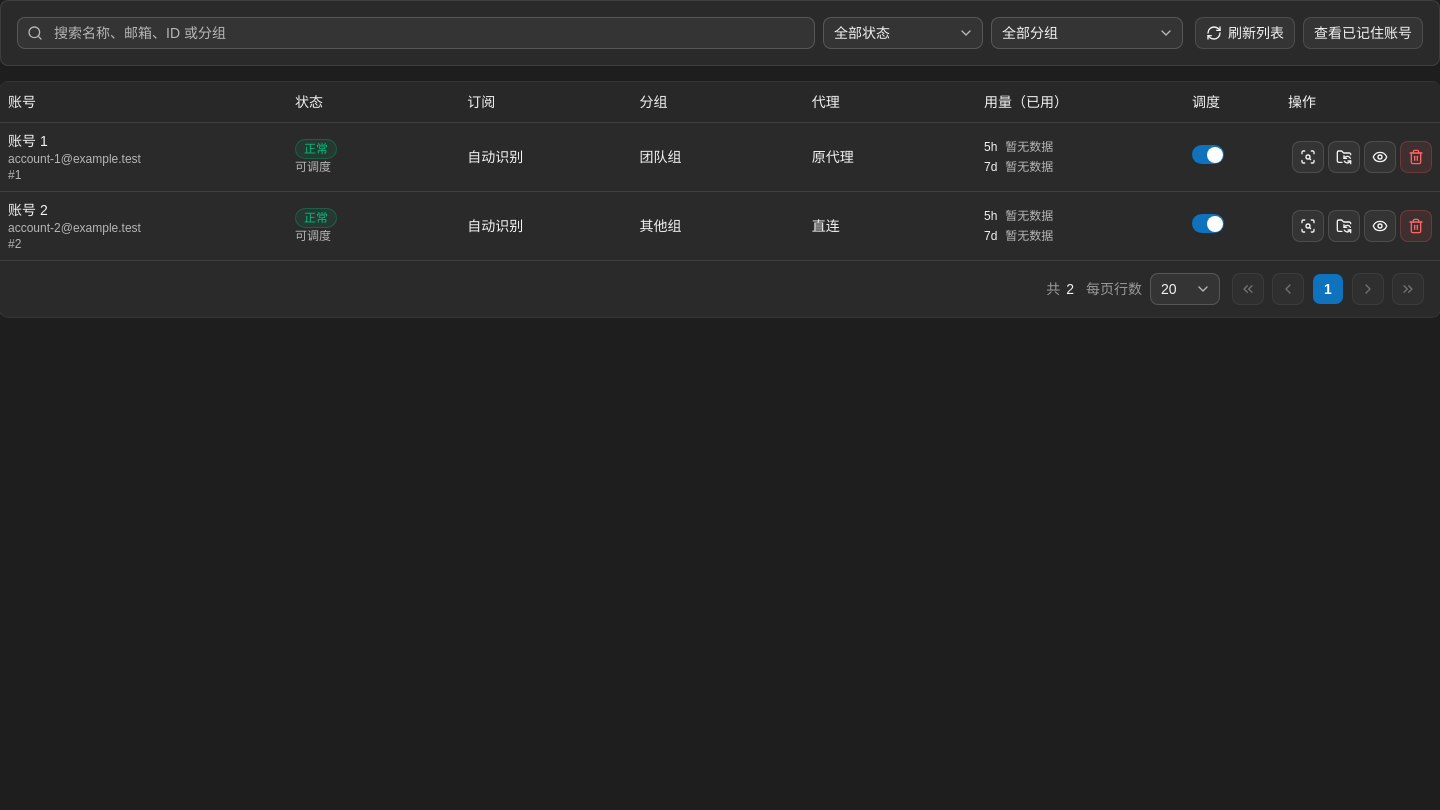
it: 后台读取失败时保留已打开的详情及当前配置
This screenshot has width=1440, height=810.
Step 1. Click the button named "查看 账号 1 配置" → (1380, 156), box [1364,140,1396,172]
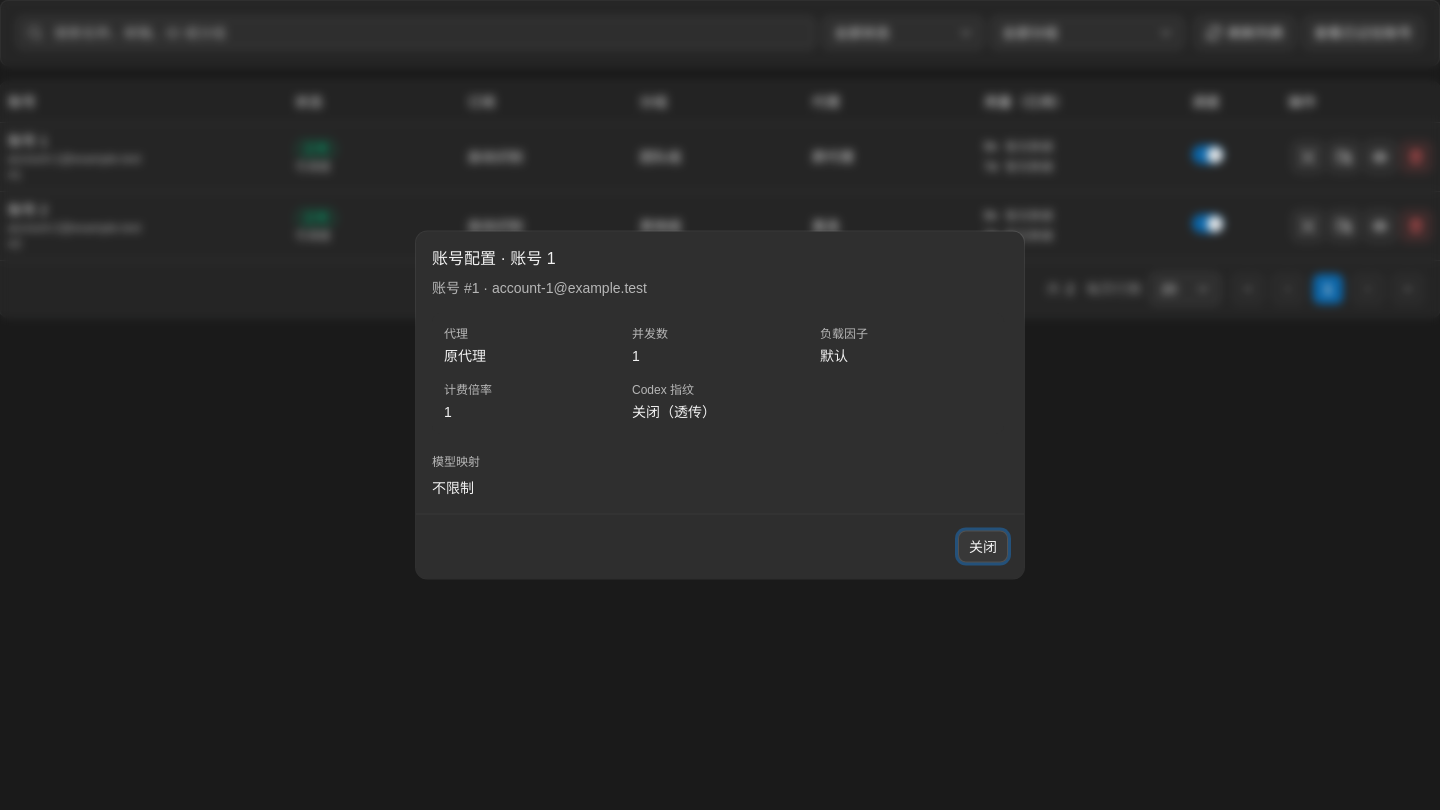
Now the text "原代理" is shown, box [444,348,486,364]
